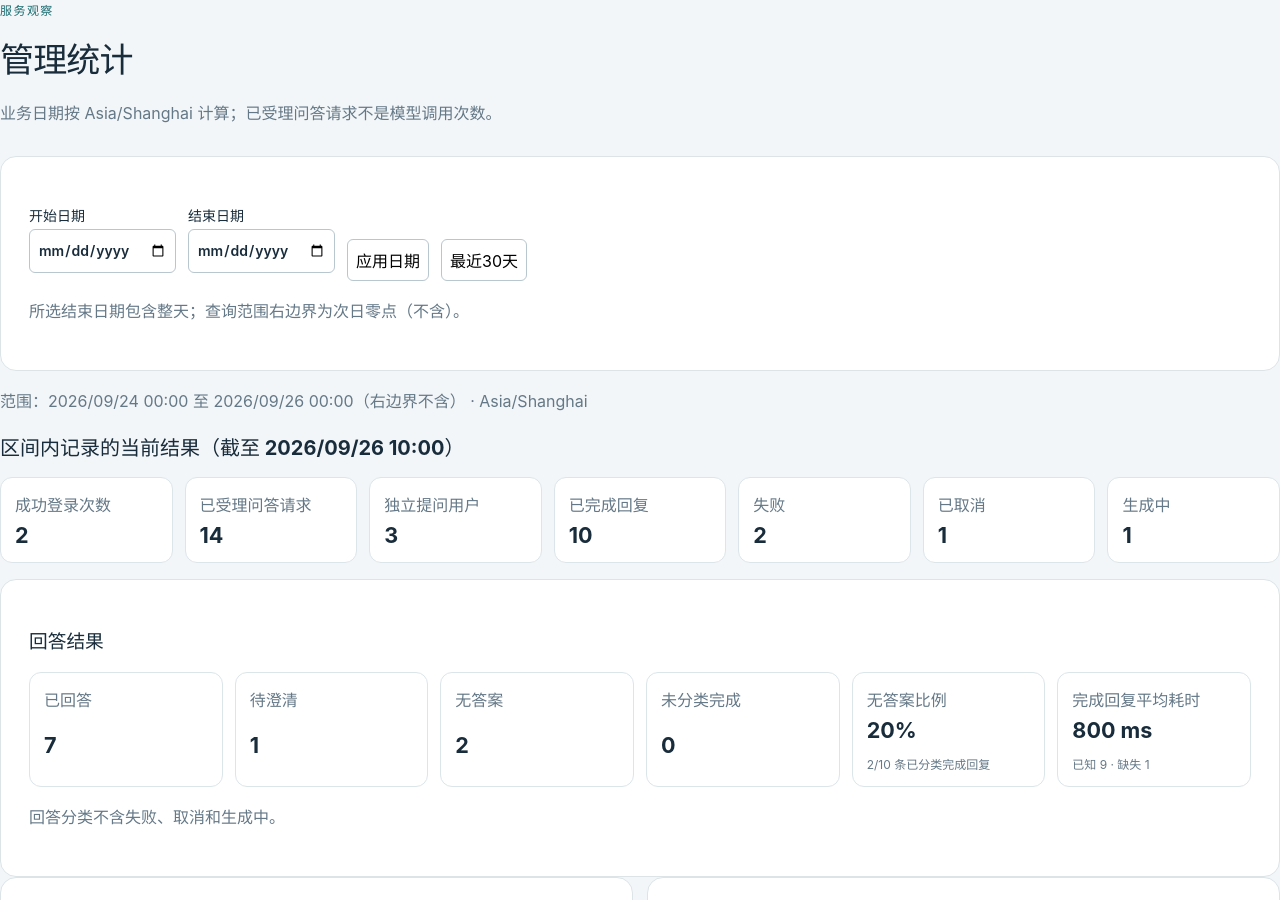
Test: clears privileged stats on same-ID role loss and ignores a late response
Type "2026-09-24" into the date field named "开始日期". click: coordinates (102, 251)
box: top-left (29, 229), bottom-right (176, 273)
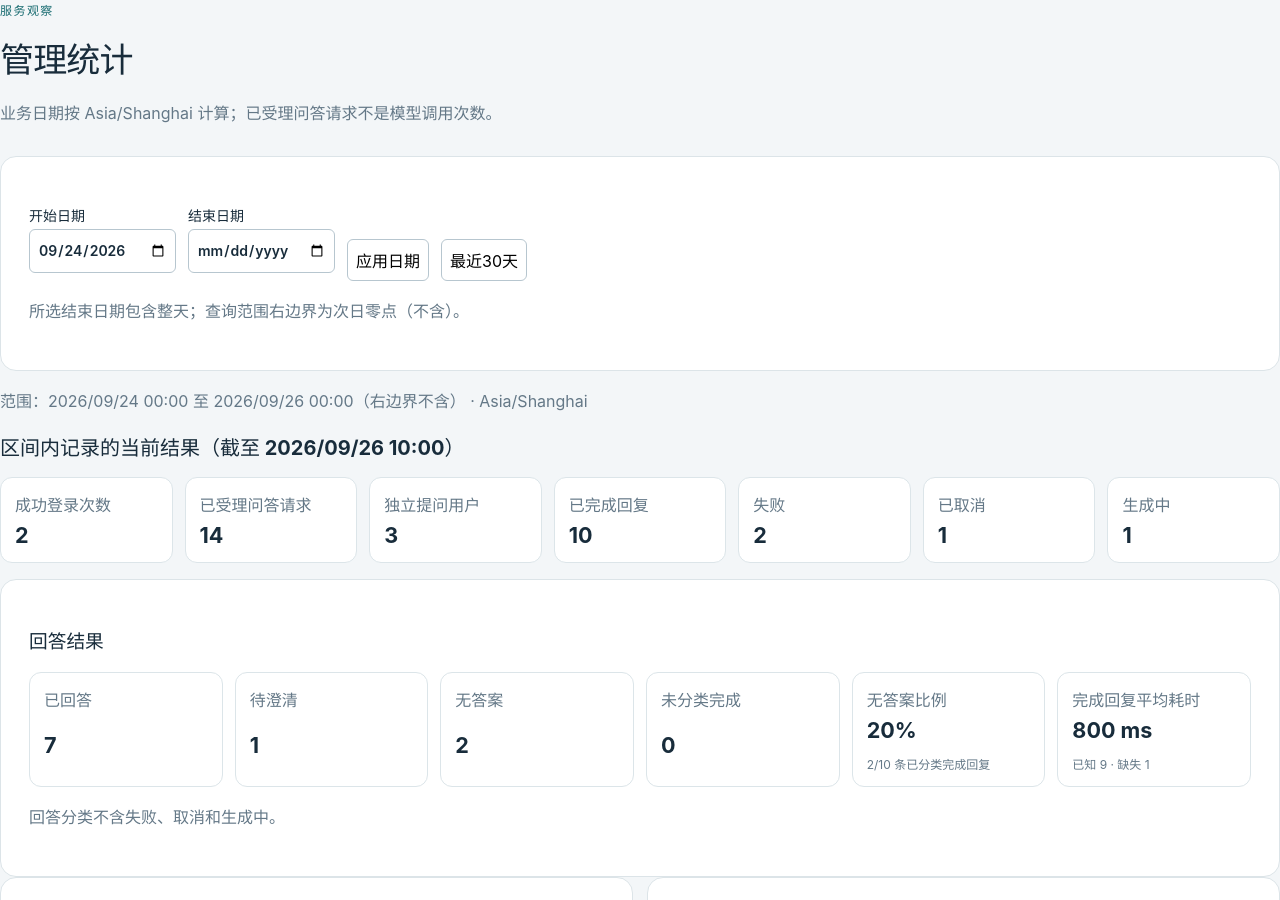
Type "2026-09-25" into the date field named "结束日期". click: coordinates (262, 251)
box: top-left (188, 229), bottom-right (335, 273)
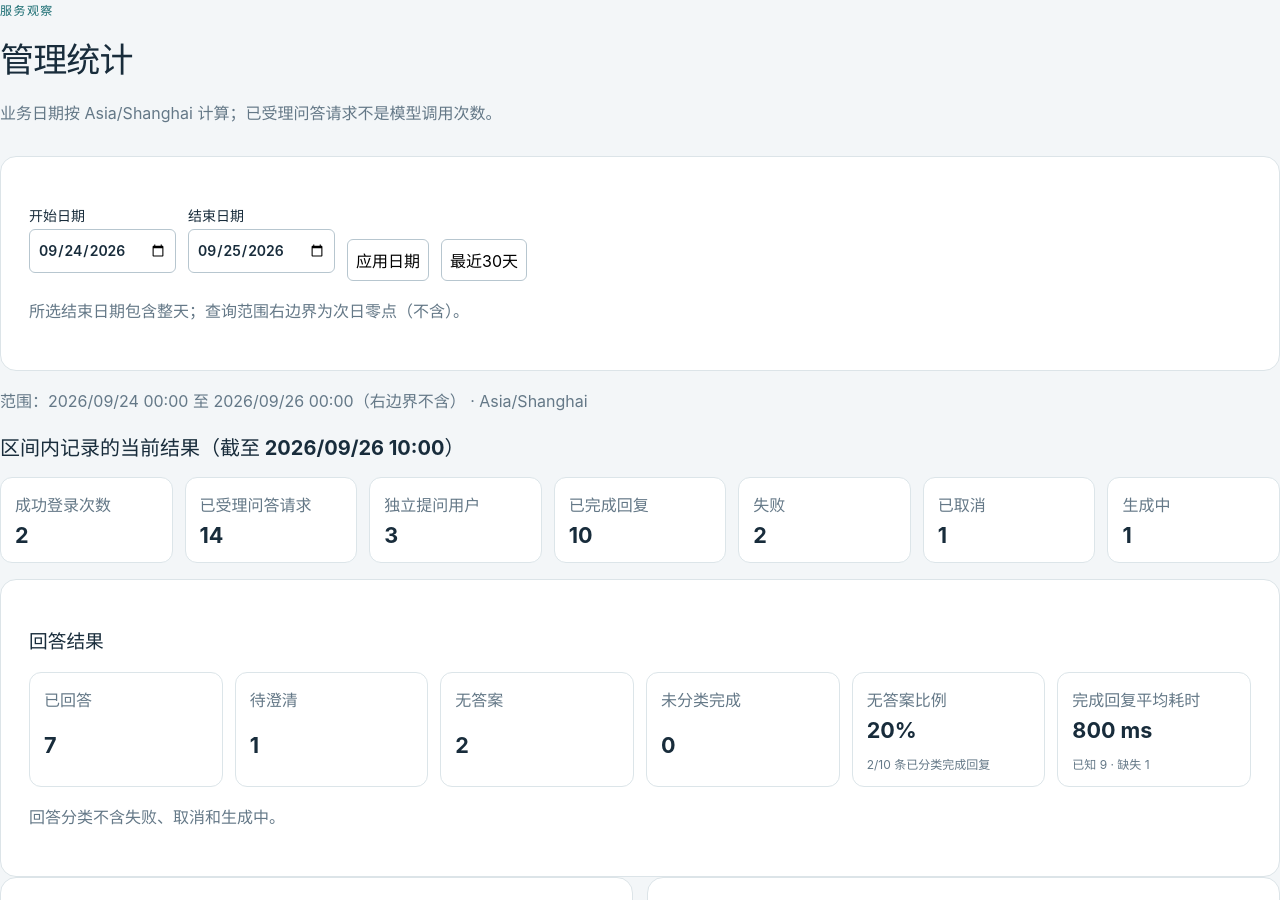
Click the button with aria-label "应用日期". click: coordinates (388, 260)
box: top-left (347, 239), bottom-right (429, 281)
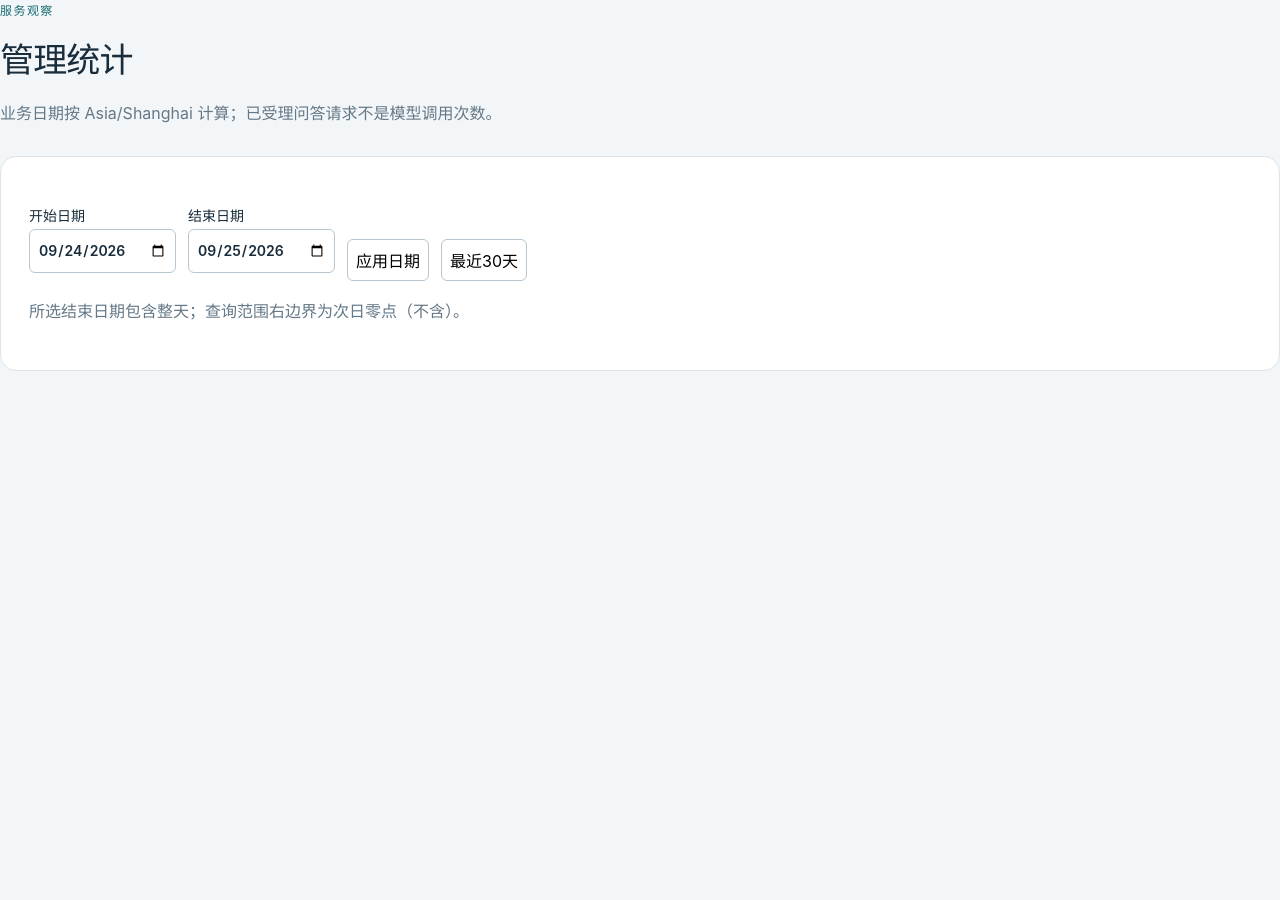
Expected: the text "成功登录次数" is gone
